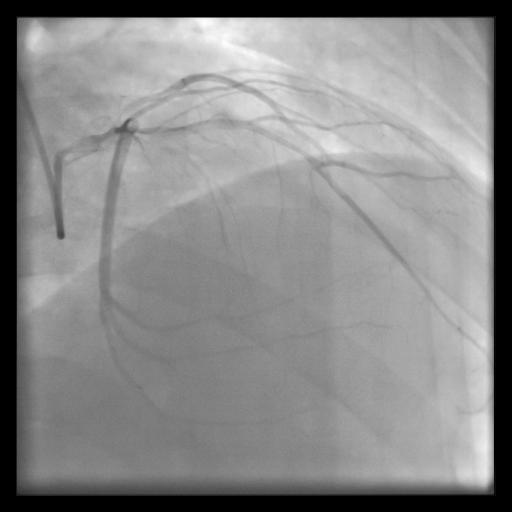Stenosis: (117, 94, 157, 114)
